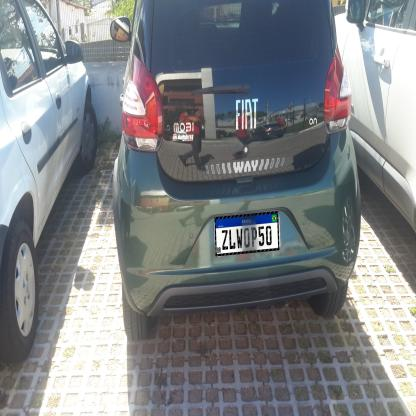PlacaM: (214, 211, 280, 256)
